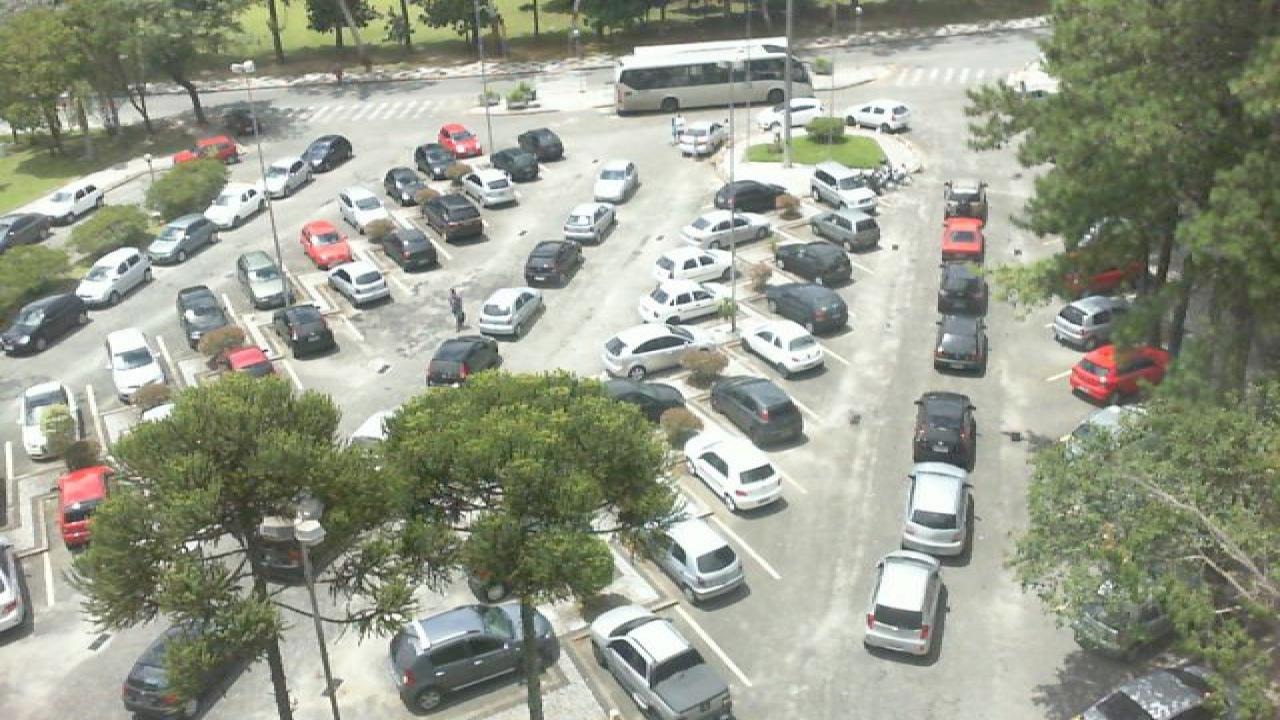Car: (386, 601, 562, 719), (586, 603, 738, 720), (120, 625, 226, 720), (860, 550, 948, 664), (642, 514, 748, 602), (678, 428, 786, 512), (710, 375, 806, 450), (898, 462, 976, 552), (1068, 343, 1170, 407), (600, 322, 706, 382), (0, 295, 88, 359), (910, 390, 978, 470), (736, 317, 828, 376), (54, 462, 116, 547), (74, 246, 154, 308), (760, 281, 850, 336), (102, 327, 168, 397), (636, 282, 736, 328), (636, 246, 736, 292), (424, 335, 504, 388), (1050, 294, 1126, 347), (474, 286, 548, 340), (766, 240, 852, 286), (932, 310, 990, 375), (146, 216, 220, 266), (800, 207, 882, 252), (680, 213, 774, 252), (326, 256, 392, 308), (810, 162, 880, 210), (174, 283, 230, 341), (280, 304, 338, 360), (202, 183, 268, 232), (30, 180, 104, 222), (524, 238, 584, 287), (712, 180, 798, 214), (380, 224, 440, 272), (422, 192, 482, 240), (234, 251, 288, 303), (298, 218, 354, 268), (670, 114, 730, 160), (938, 261, 988, 316), (560, 202, 618, 246), (260, 153, 314, 199), (296, 135, 354, 177), (760, 96, 830, 130), (458, 168, 520, 206), (940, 215, 988, 264), (592, 158, 640, 204), (218, 346, 276, 384), (846, 98, 910, 132), (0, 210, 50, 252), (338, 186, 390, 226), (376, 162, 430, 199), (174, 135, 238, 165), (516, 126, 568, 162), (436, 122, 484, 160), (490, 148, 540, 184), (942, 179, 986, 218), (414, 143, 460, 180)
